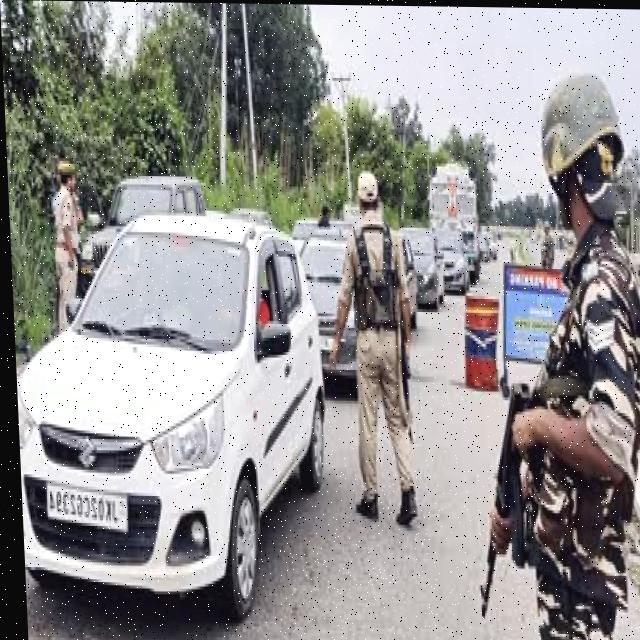plate: (37, 476, 125, 537)
